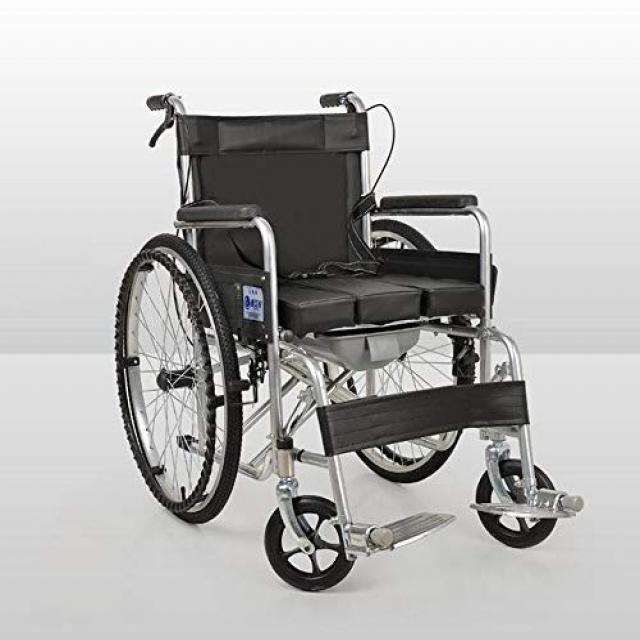wheelchair: (100, 66, 596, 598)
